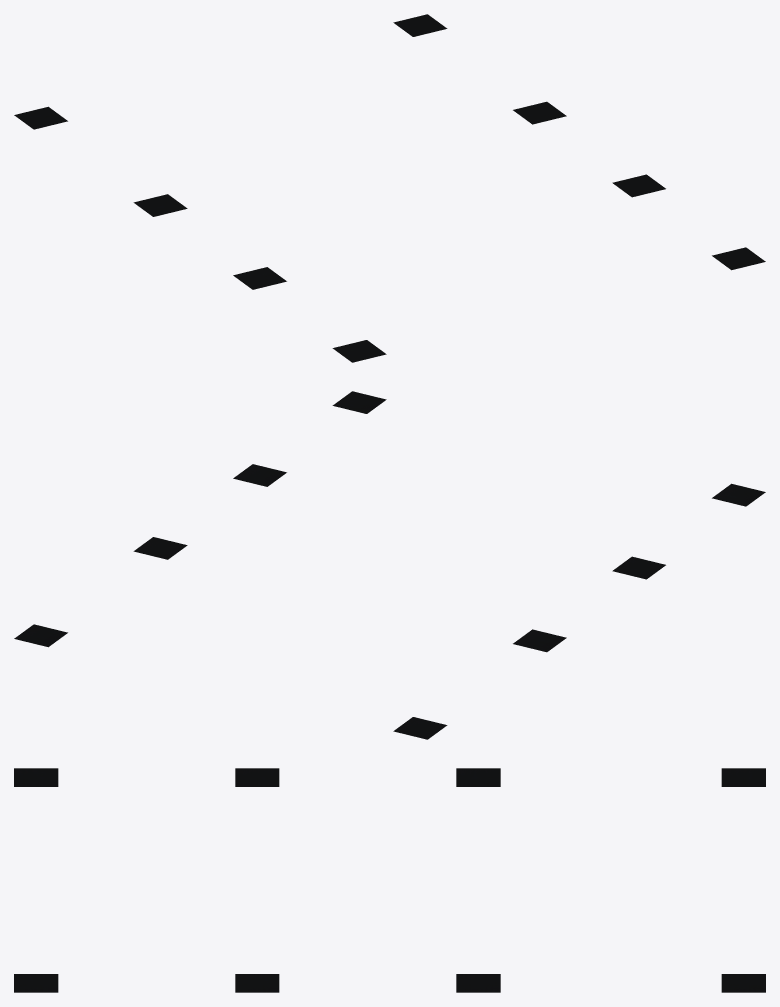
3 views of the same model, one above another, from view 1: azimuth 30°, elevation 25°; view 2: azimuth 150°, elevation 25°; view 3: azimuth 270°, elevation 25° (orthographic). The views are drawn at different scales.
Bounding box in the file's own units: 2.88 × 0 × 4.08.
1 material, 1 textured.
